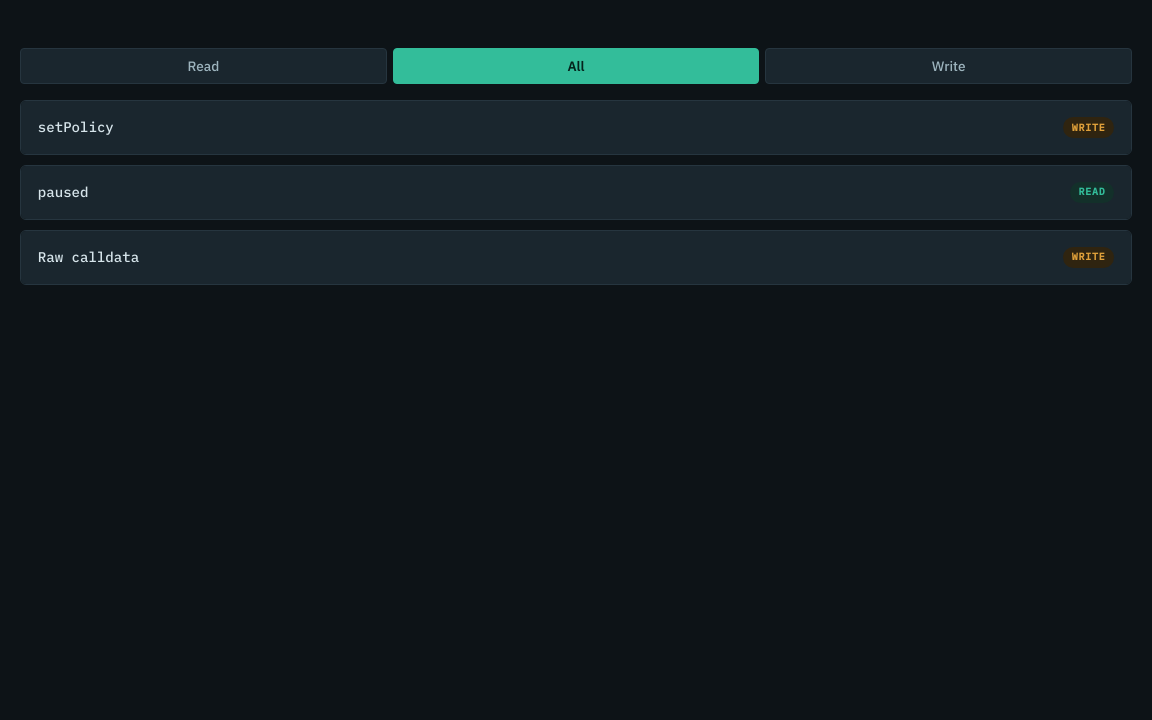
Test: each function clears independently
This screenshot has width=1152, height=720.
Click the text "setPolicy" at (76, 127), box [38,118,114,136]
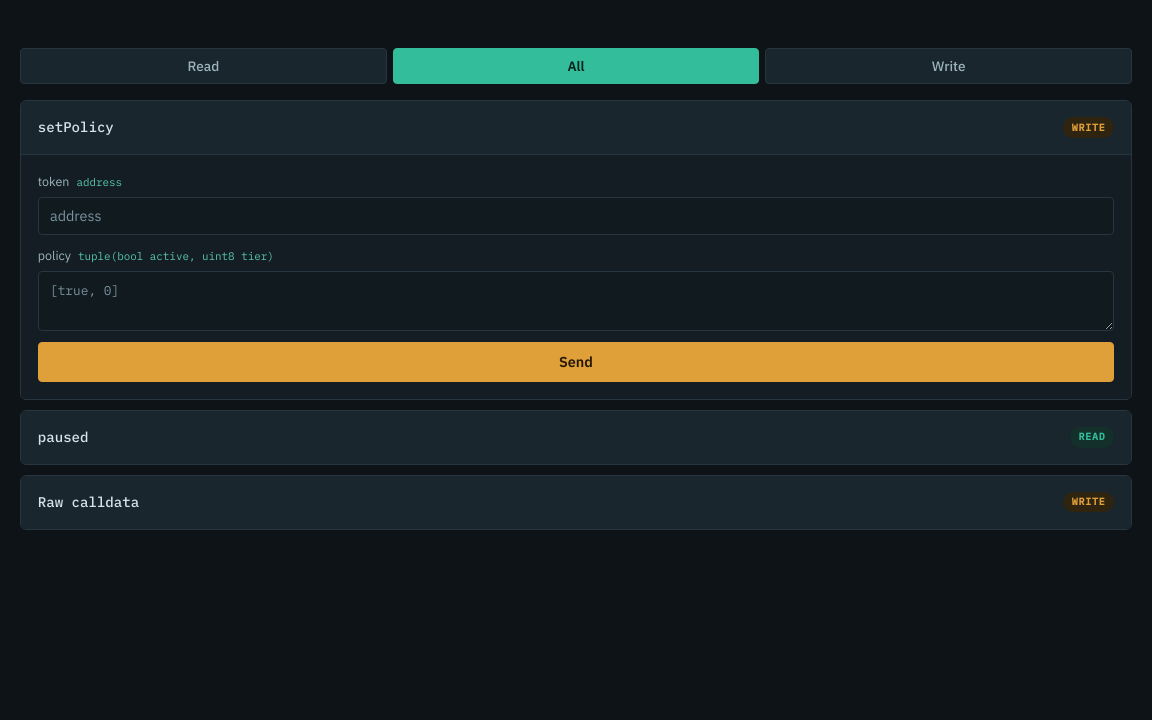
Click the text "paused" at (63, 437), box [38,428,88,446]
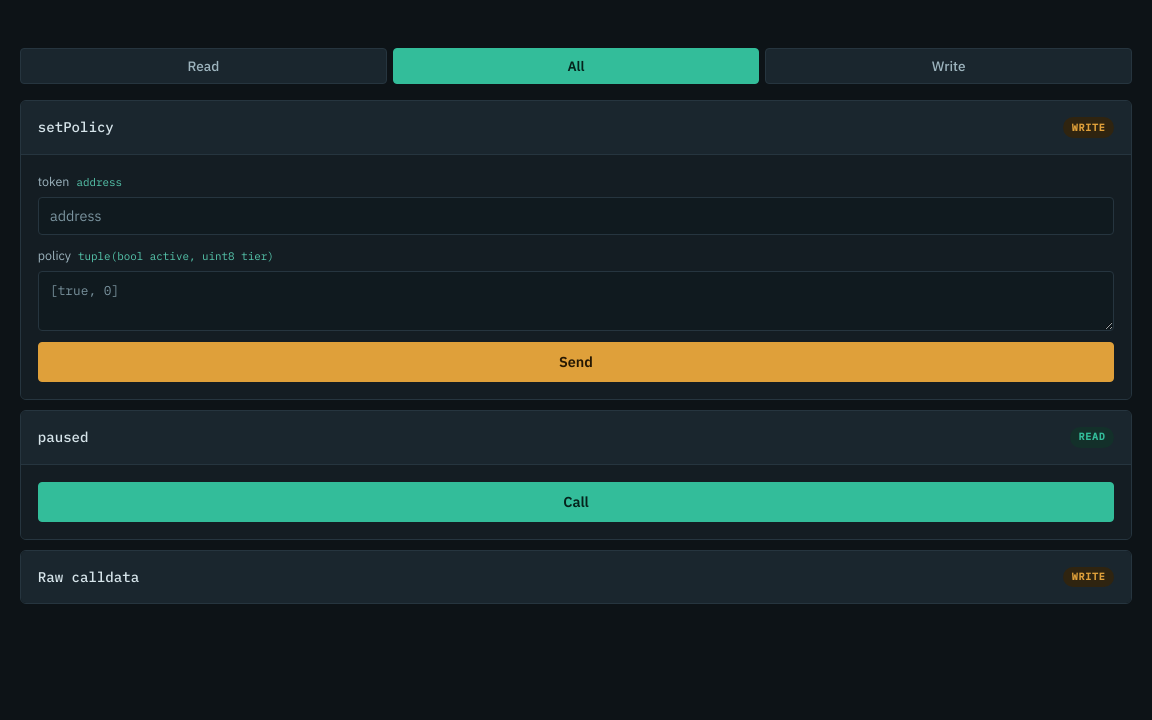
Type "[true, 2]" into the text box labelled "policy tuple(bool active, uint8 tier)" at (576, 301), box [38,271,1114,331]
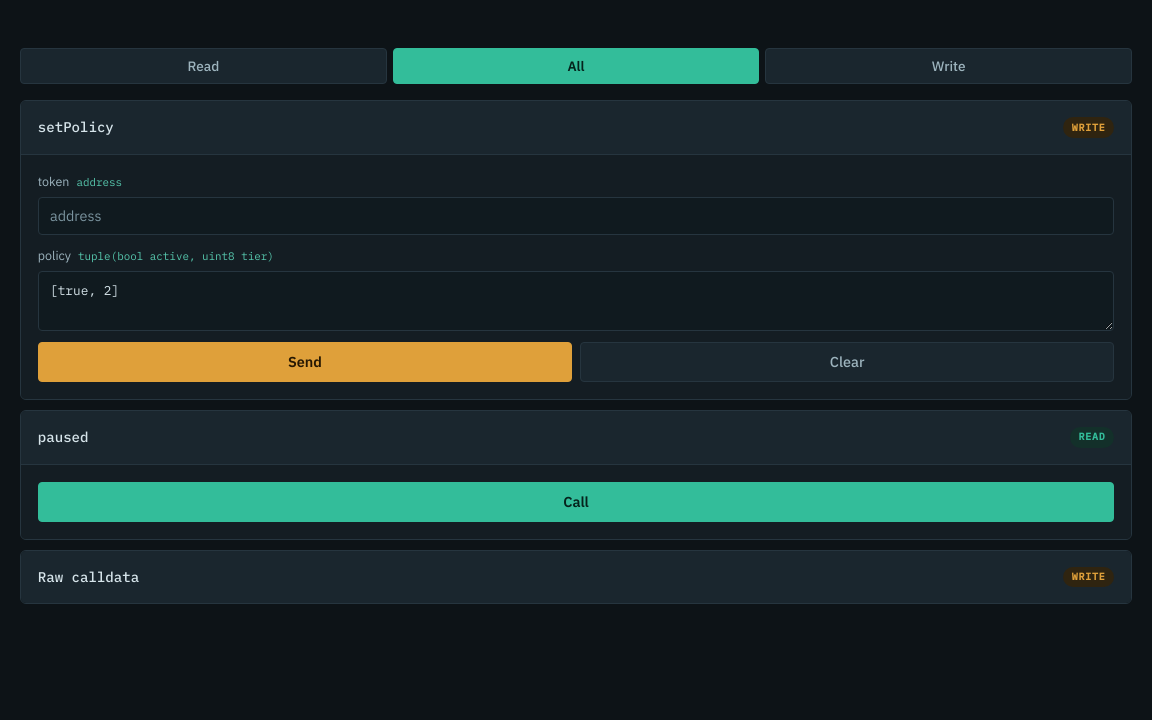
Expected: the number of buttons "Clear" is 1
Click the button "Clear" at (847, 362), box [580,342,1114,382]
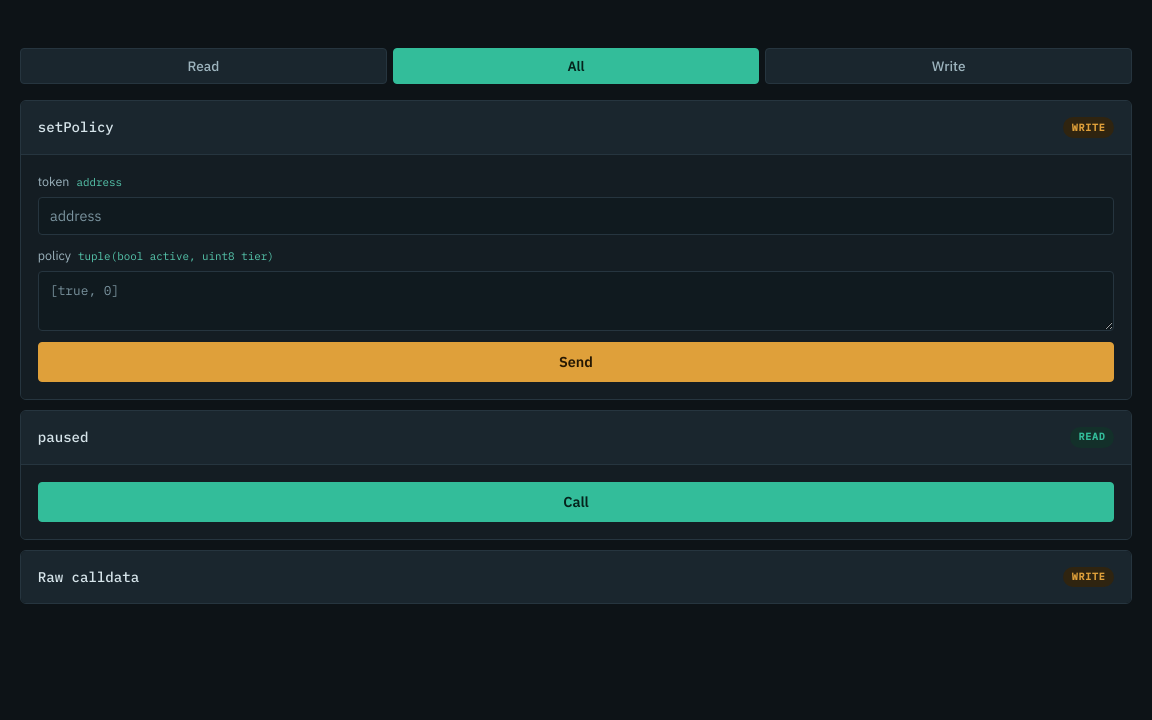
Expected: the text box labelled "policy tuple(bool active, uint8 tier)" is empty, [38,271,1114,331]
Expected: the button "Clear" is gone
